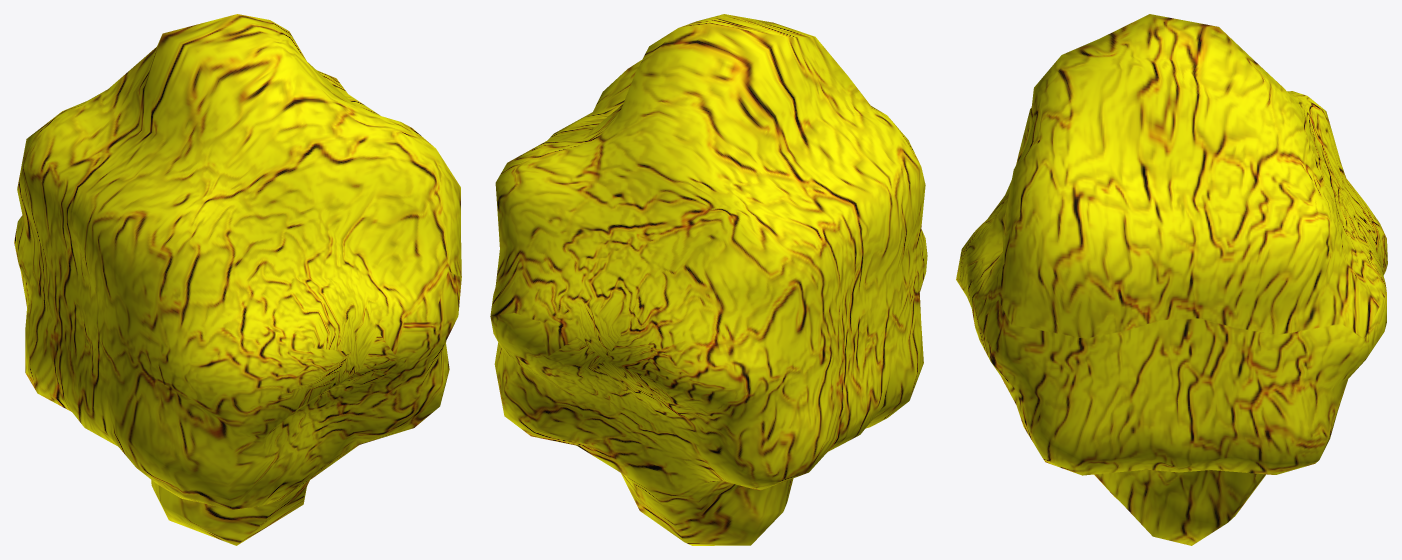
Rendered from sphere_deformed.obj.
The picture shows the model from 3 angles, left to right: view 1: azimuth 30°, elevation 25°; view 2: azimuth 150°, elevation 25°; view 3: azimuth 270°, elevation 25°; orthographic projection. The views are drawn at different scales.
Bounding box in the file's own units: 5.64 × 8.59 × 6.6.
1 material, 1 textured.
